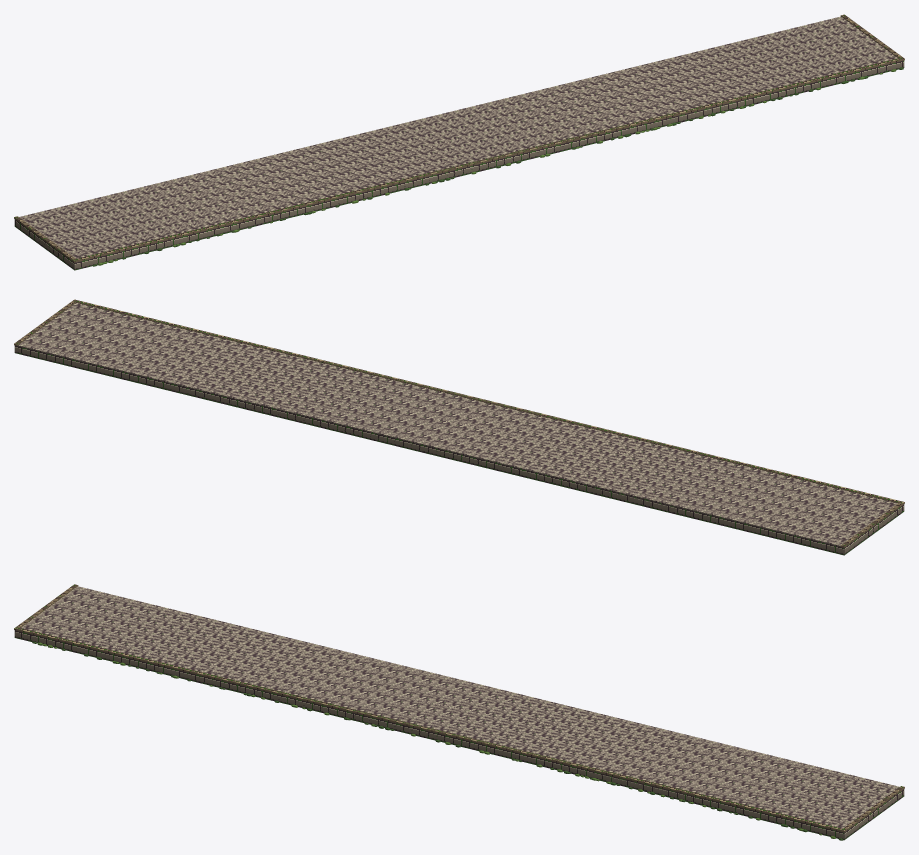
Rendered from scene_quay.glb.
The picture shows the model from 3 angles, top to bottom: view 1: azimuth 30°, elevation 25°; view 2: azimuth 150°, elevation 25°; view 3: azimuth 330°, elevation 25°; orthographic projection.
Visible parts, largest first — view 1: scene_quay; view 2: scene_quay; view 3: scene_quay.
Boxes of the visible parts, left/top/right/bottom form: scene_quay: left=14, top=14, right=904, bottom=270; scene_quay: left=14, top=299, right=904, bottom=555; scene_quay: left=14, top=584, right=904, bottom=840.
Size of the model in its own units: 80.1 by 0.9717 by 10.24.
Materials: 3 (2 with a texture image).
